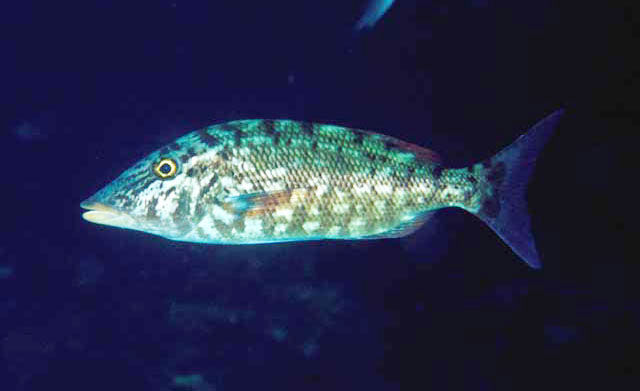fish: (79, 107, 564, 269)
